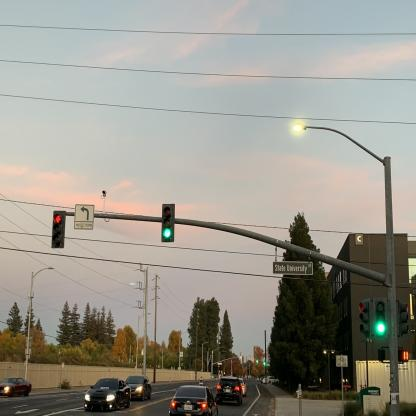green: (374, 298, 389, 342), (162, 204, 174, 241)
left-red: (52, 210, 65, 248)
